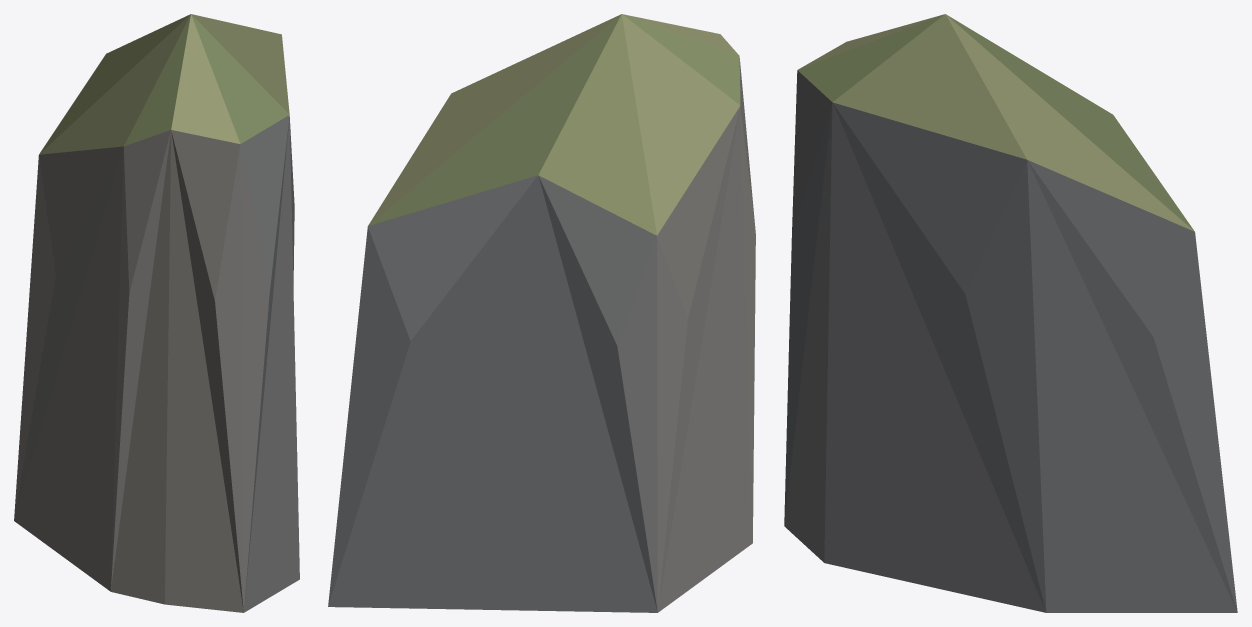
Rendered from cliff_western_slab.glb.
3 renders of one model, left to right at view 1: azimuth 30°, elevation 25°; view 2: azimuth 150°, elevation 25°; view 3: azimuth 270°, elevation 25°, orthographic.
Parts seen in each view (by area): view 1: cliff_western_slab; view 2: cliff_western_slab; view 3: cliff_western_slab.
Boxes of the visible parts, x1,y1,x2,y2 form: cliff_western_slab: [14, 14, 299, 612]; cliff_western_slab: [328, 14, 755, 612]; cliff_western_slab: [784, 14, 1237, 612].
Size of the model in its own units: 39.05 by 77 by 60.15.
